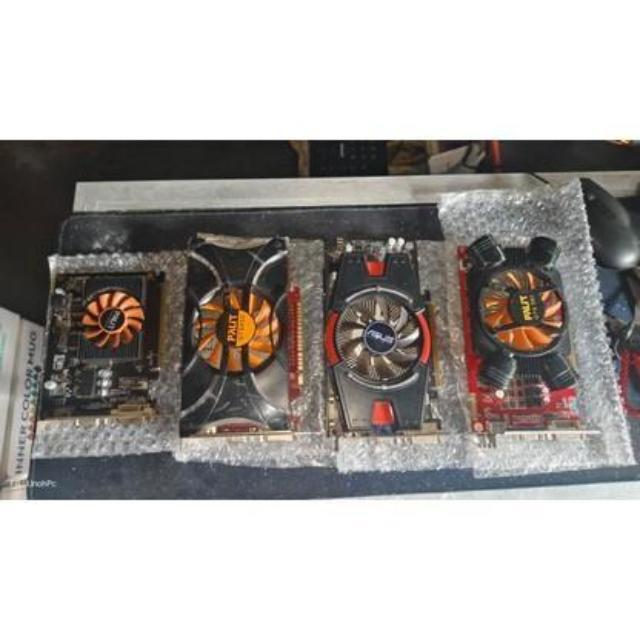GPU: (181, 224, 313, 448), (452, 226, 590, 431), (320, 230, 445, 444), (43, 260, 166, 438)
